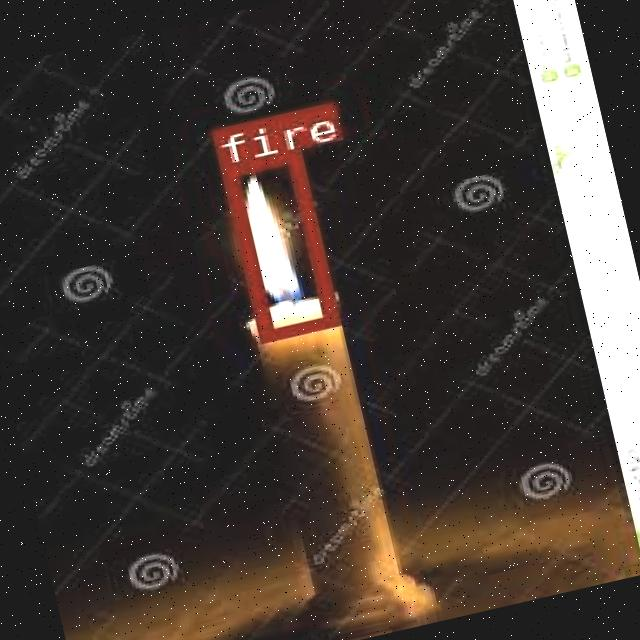fire: (217, 148, 335, 342)
